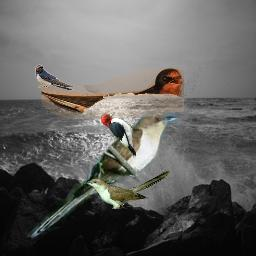Cuckoo: (26, 111, 182, 244), (84, 170, 170, 209)
Swallow: (41, 67, 184, 119), (35, 64, 85, 94)
Woodpecker: (101, 112, 136, 159)
